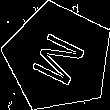M_SE: (25, 25, 91, 90)
